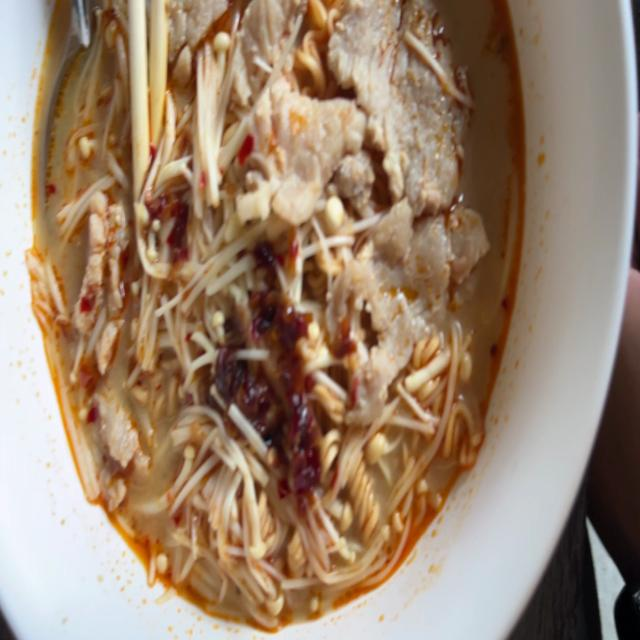noodle: (20, 0, 555, 629)
